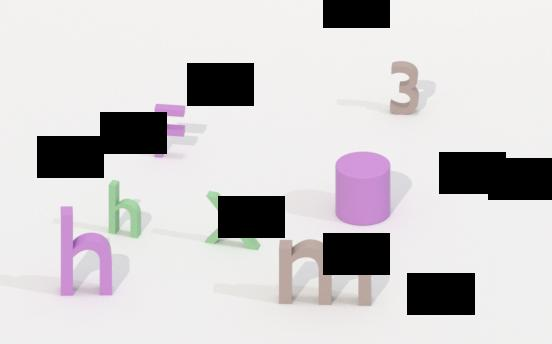3: (382, 58, 426, 118)
F: (147, 99, 195, 161)
h: (57, 205, 112, 297), (105, 177, 147, 241)
m: (272, 237, 377, 306)
tru: (332, 149, 396, 229)
x: (199, 186, 266, 251)
